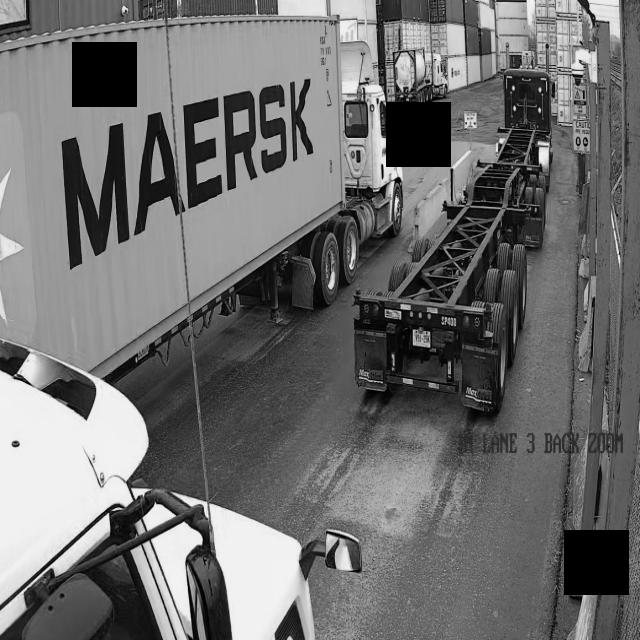container_company_logo: (56, 56, 320, 286)
license_plate: (409, 325, 436, 350)
truck_with_container: (0, 18, 403, 382)
truck_without_container: (354, 69, 554, 412)
